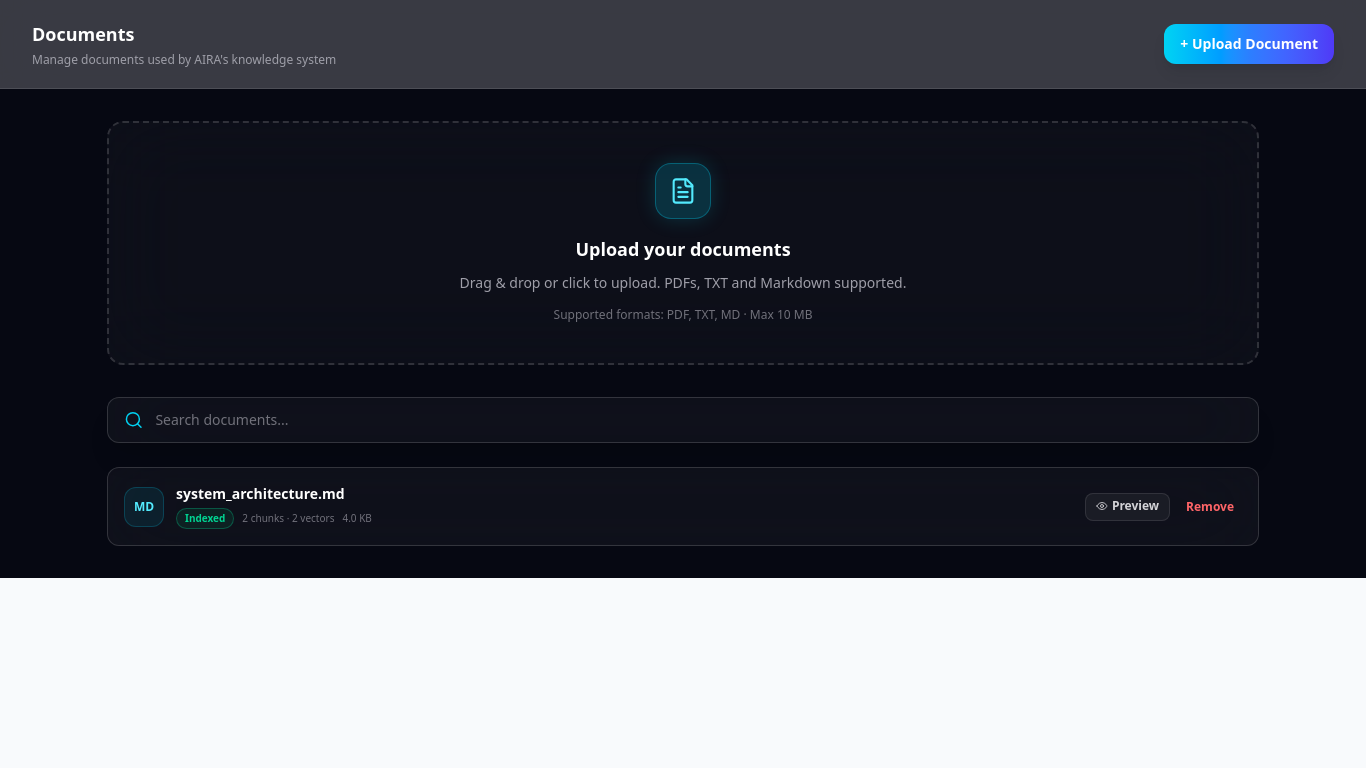
Scenario: DocumentsPage — Remove button › cancels deletion when Cancel is clicked in confirmation dialog
Expected: the heading "system_architecture.md" is shown, 176,484 -> 372,504
Step 1. Click the button with aria-label "Remove system_architecture.md" → [1210, 506], box 1178,494 -> 1242,518
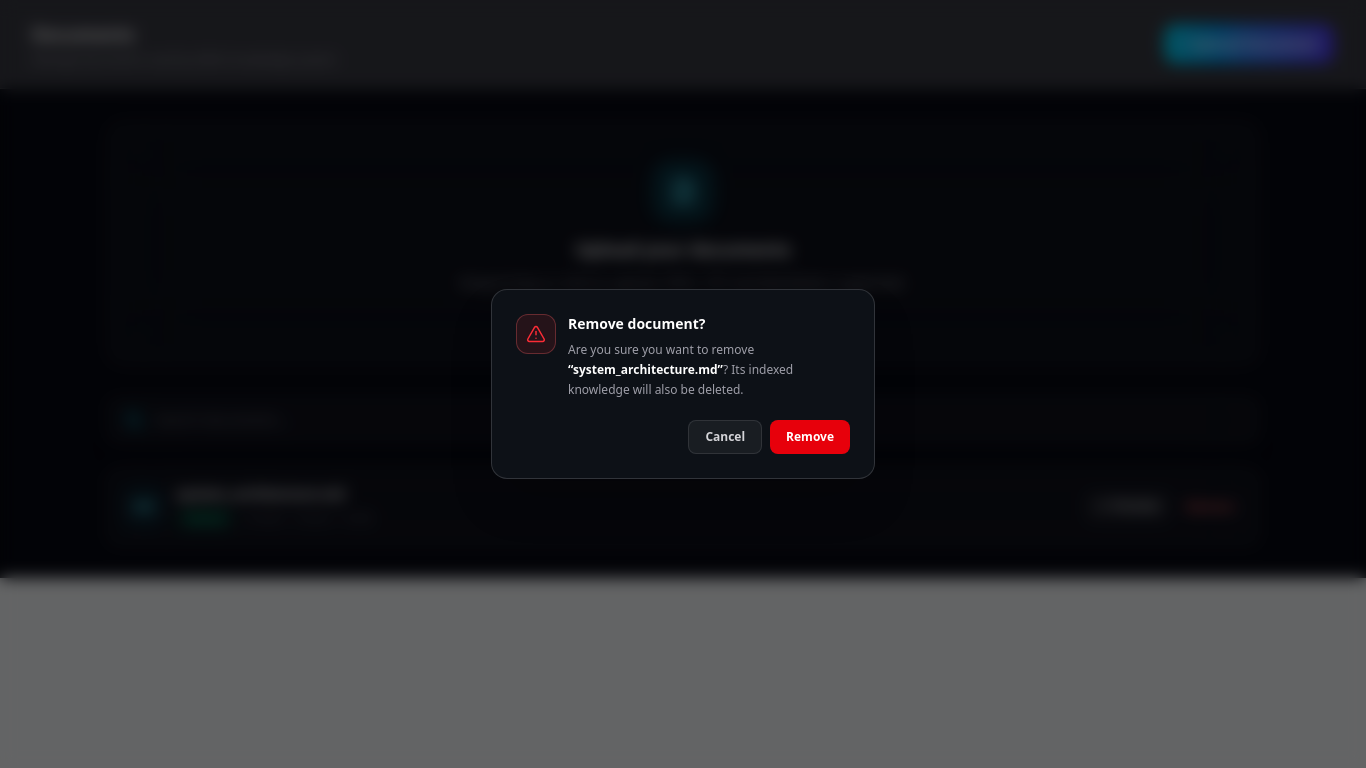
Now the dialog is shown
Step 2. Click the button "Cancel" → [725, 437], box 688,420 -> 762,454
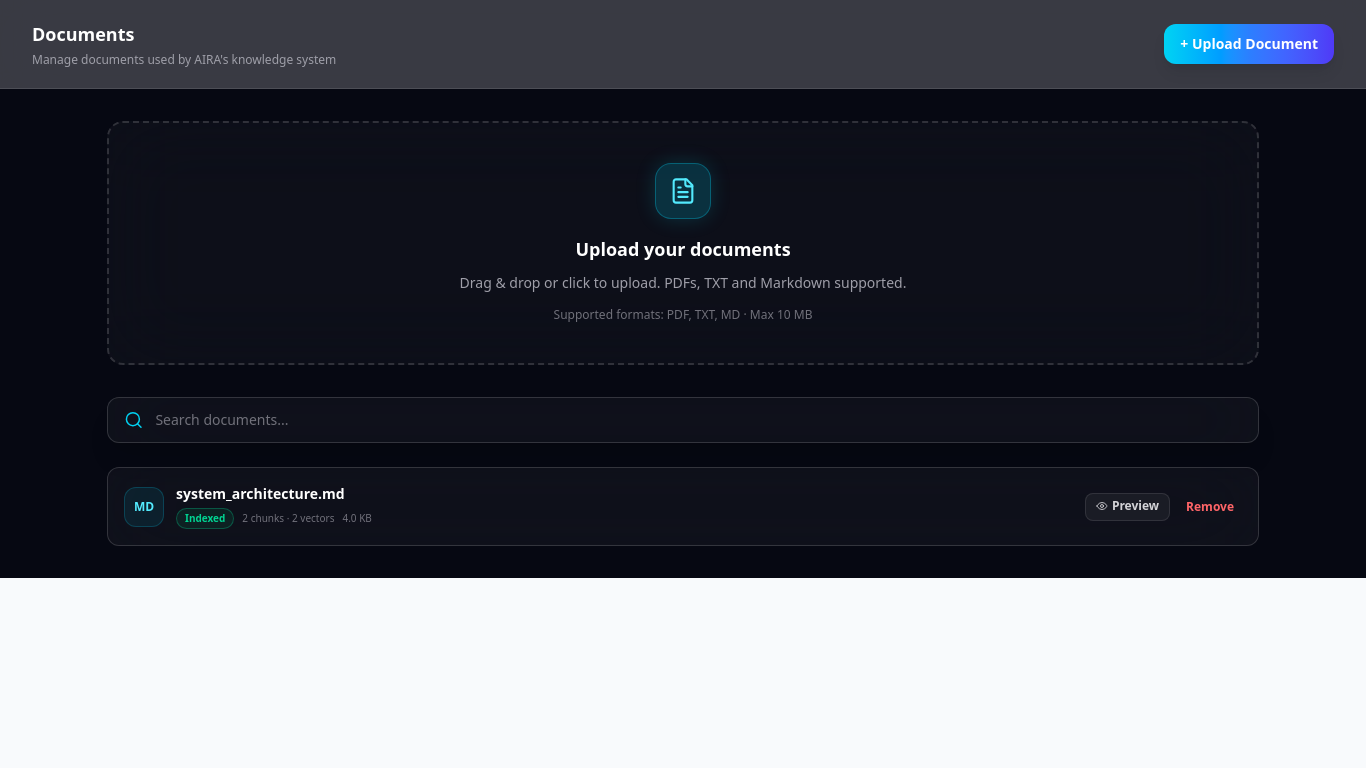
Now the dialog is gone
